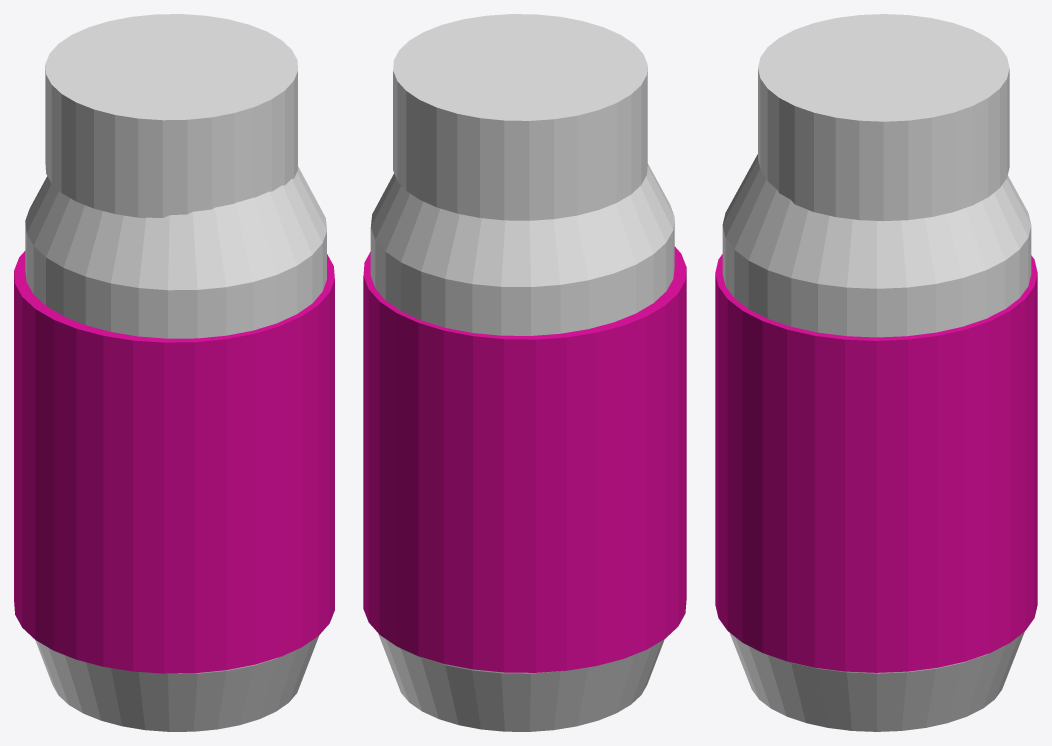
File: item-med.glb
The picture shows the model from 3 angles, left to right: view 1: azimuth 30°, elevation 25°; view 2: azimuth 150°, elevation 25°; view 3: azimuth 270°, elevation 25°; orthographic projection.
Parts seen in each view (by area): view 1: 円柱.010, 円柱.007, 円柱.008; view 2: 円柱.010, 円柱.007, 円柱.008; view 3: 円柱.010, 円柱.007, 円柱.008.
Boxes of the visible parts, box(x1,y1,x2,y2) form: 円柱.010: box(14, 251, 334, 673); 円柱.007: box(25, 166, 326, 731); 円柱.008: box(45, 14, 297, 217); 円柱.010: box(363, 246, 686, 672); 円柱.007: box(370, 163, 674, 731); 円柱.008: box(393, 14, 647, 220); 円柱.010: box(715, 254, 1037, 672); 円柱.007: box(722, 154, 1031, 731); 円柱.008: box(758, 14, 1009, 221).
Bounding box in the file's own units: 0.2619 × 0.5478 × 0.2619.
